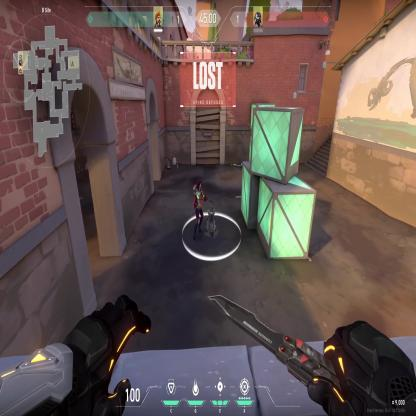enemy: (192, 177, 204, 242)
